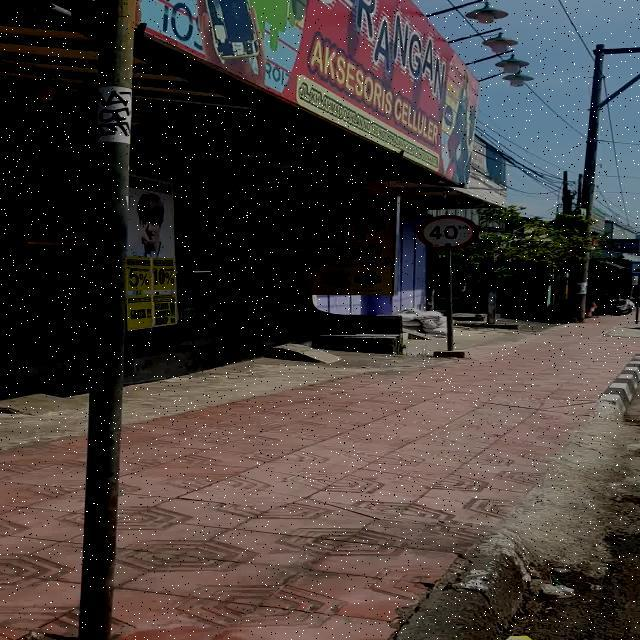Kecepatan Maks. 40 km: (418, 214, 480, 250)
